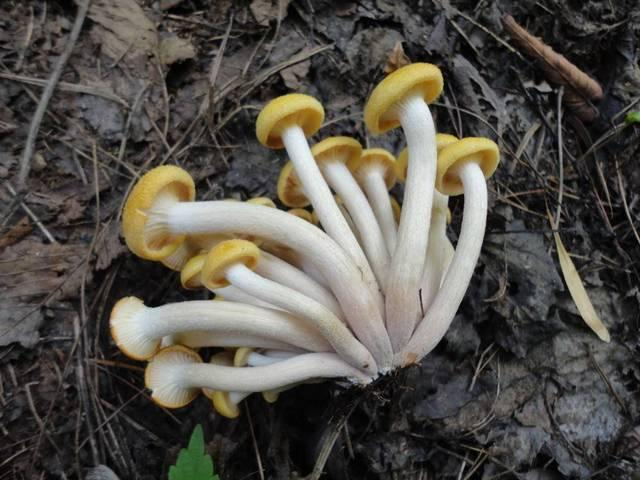edible_mushroom: (108, 60, 500, 418)
